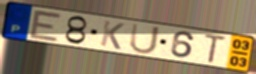6: (169, 31, 195, 59)
8: (64, 15, 89, 45)
E: (28, 8, 65, 44)
K: (98, 19, 127, 51)
T: (203, 33, 229, 65)
U: (128, 22, 161, 56)
